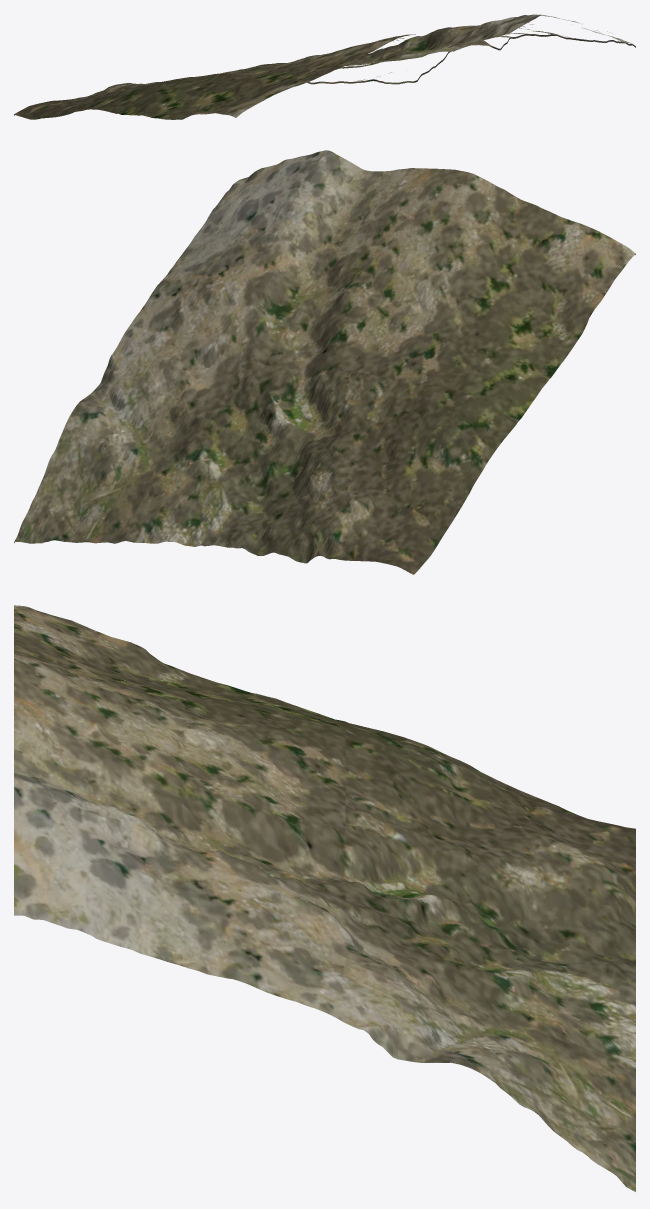
3 views of the same model, one above another, from view 1: azimuth 30°, elevation 25°; view 2: azimuth 150°, elevation 25°; view 3: azimuth 270°, elevation 25° (orthographic). The views are drawn at different scales.
Bounding box in the file's own units: 250 × 159 × 241.
1 material, 1 textured.
